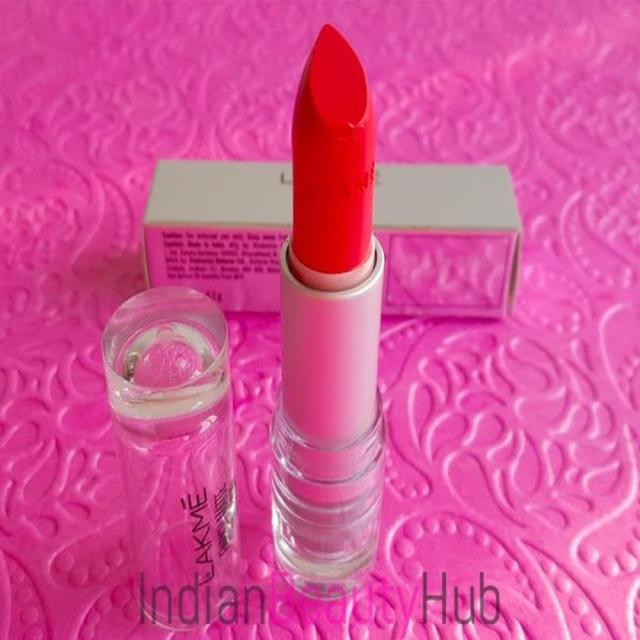lipstick: (272, 10, 394, 568)
